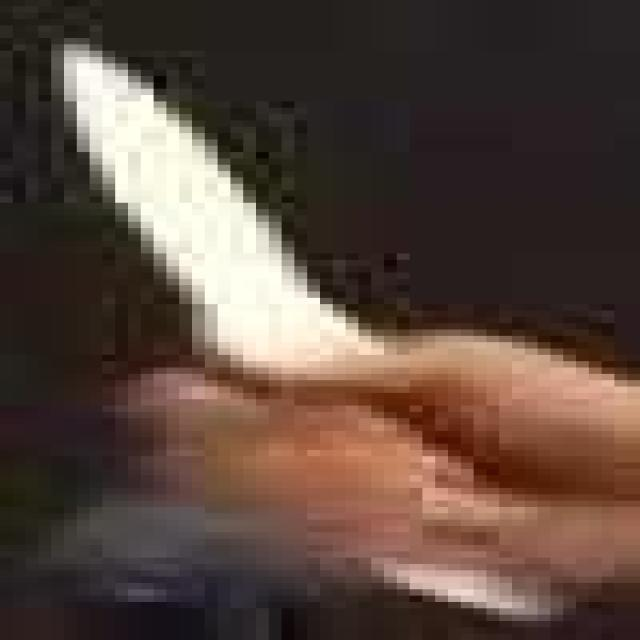Knife: (46, 42, 580, 619)
